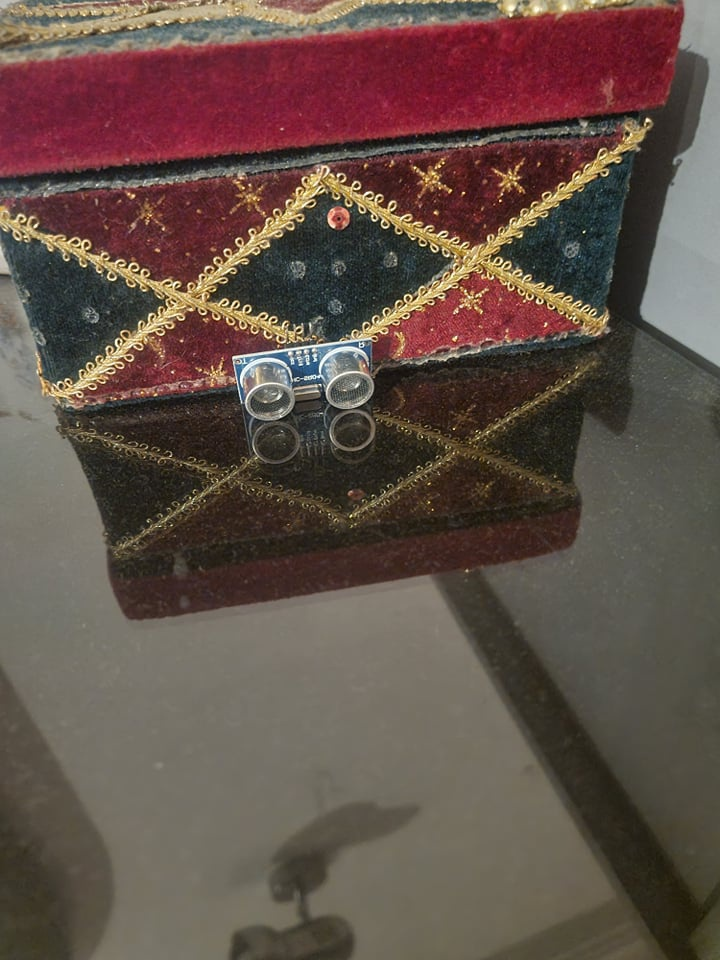SENSOR: (232, 337, 373, 424)
